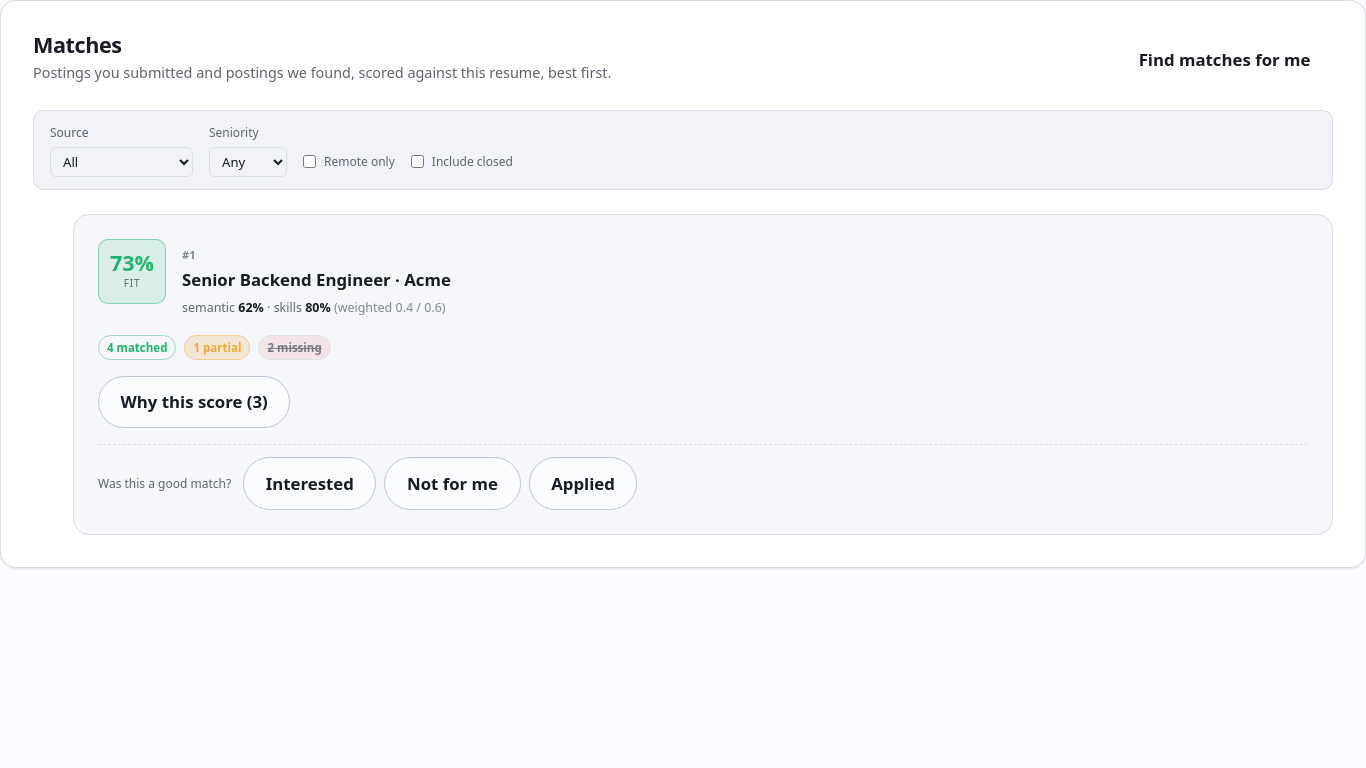
the breakdown › opens and closes
Click the button "Why this score (3)". click: x=194, y=402
box: 98,376 -> 290,428
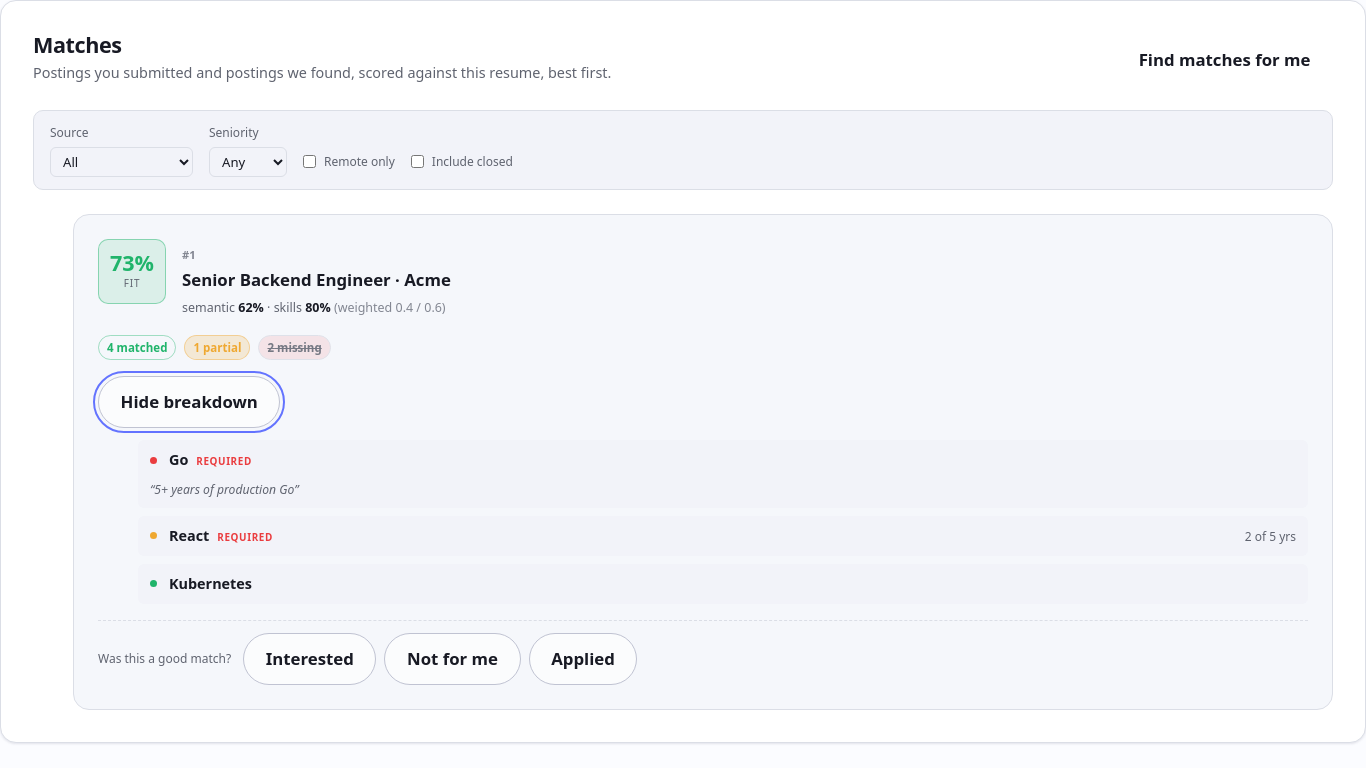
Now the text "Kubernetes" is shown, box 169,574 -> 252,593
Click the button "Hide breakdown". click: x=189, y=402
box: 98,376 -> 280,428
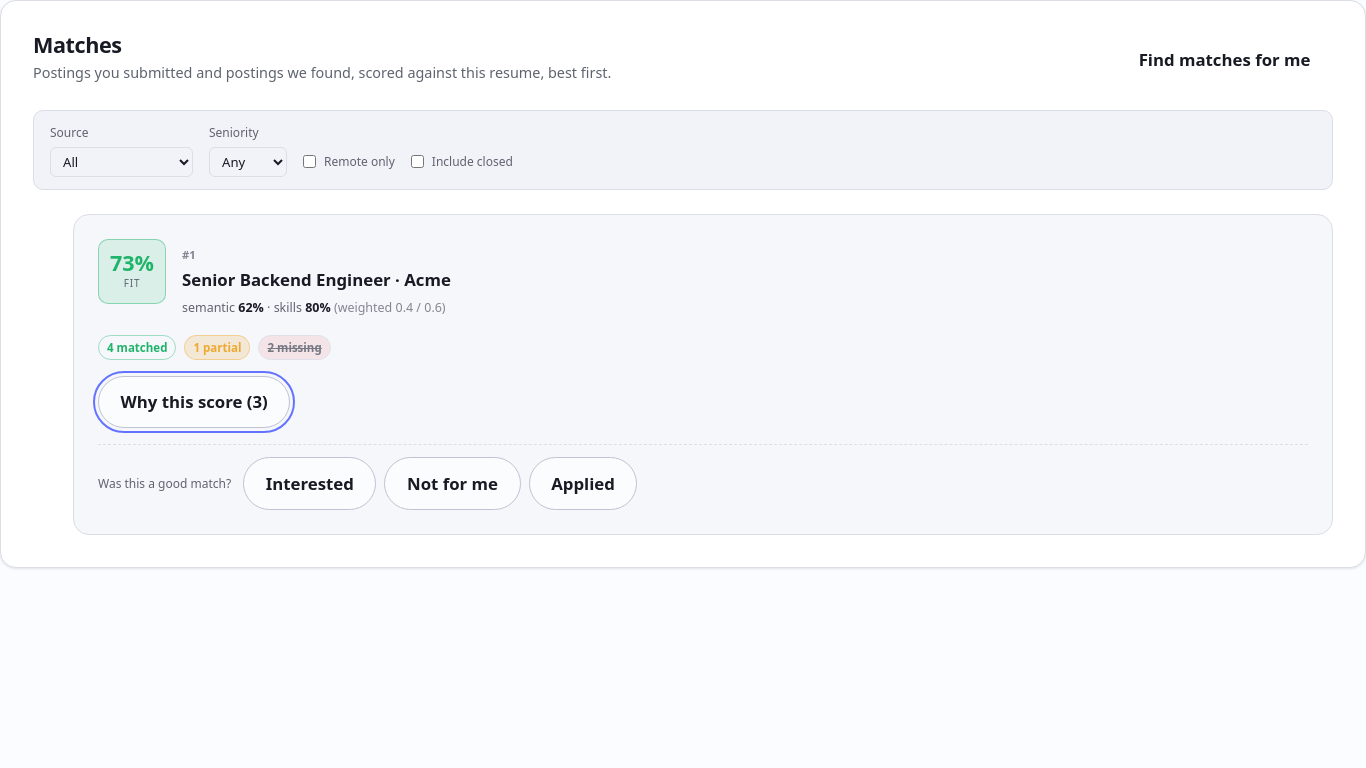
Now the text "Kubernetes" is gone
